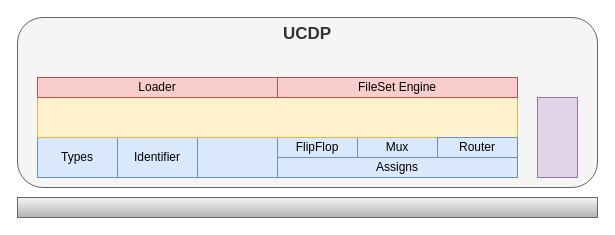
The diagram is 615 pixels wide and 235 high, and some of its shapes have lost their labels. Each missing label, with the centre of its shape:
"Doc" goes at point (557, 137).
"Expression Engine" goes at point (237, 157).
"Modules" goes at point (277, 117).
"Utilities" goes at point (307, 207).
